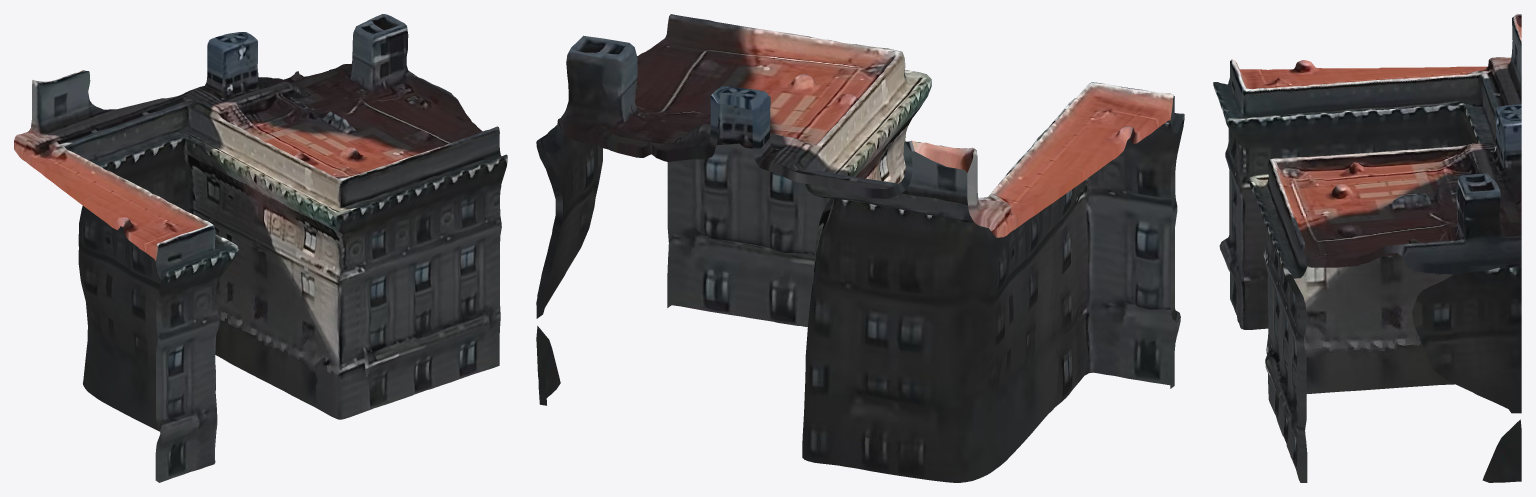
The model's file is z20-167747-405249-h1-yup-uvflip-v3-world.glb.
3 renders of one model, left to right at view 1: azimuth 30°, elevation 25°; view 2: azimuth 150°, elevation 25°; view 3: azimuth 270°, elevation 25°, orthographic. The views are drawn at different scales.
Bounding box in the file's own units: 30.2 × 22.48 × 21.36.
Materials: 1 (1 with a texture image).
